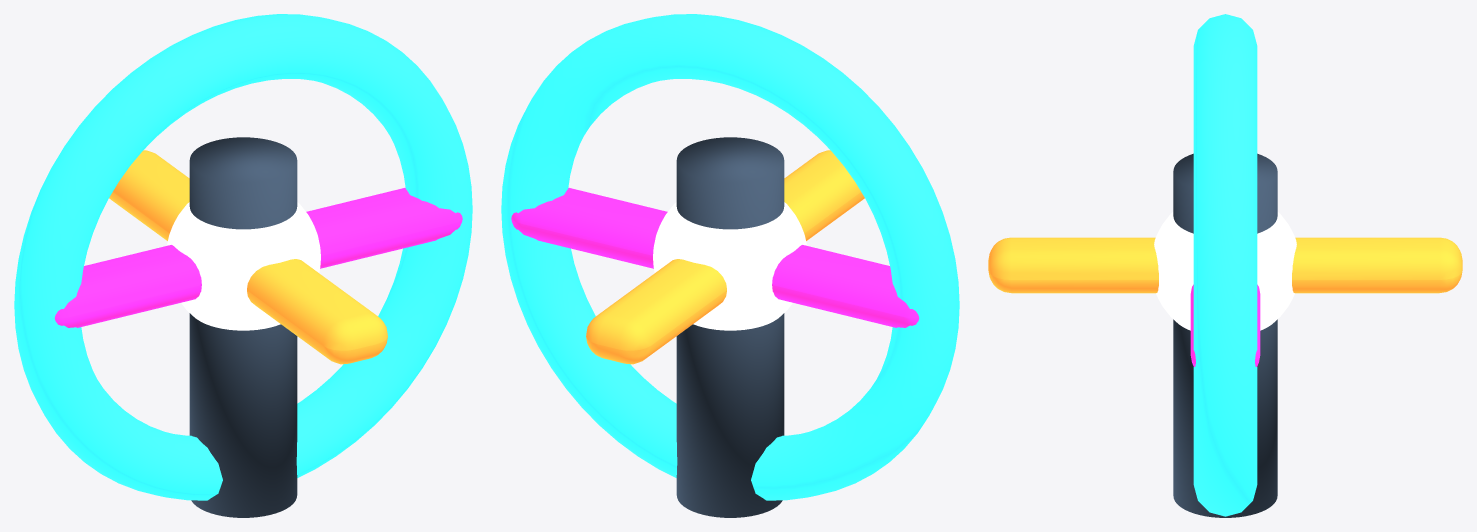
File: spinner.glb
3 views of the same model, side by side, from view 1: azimuth 30°, elevation 25°; view 2: azimuth 150°, elevation 25°; view 3: azimuth 270°, elevation 25° (orthographic). The views are drawn at different scales.
Visible parts, largest first — view 1: Spinner_Ring, Spinner, Spinner_Post, Spinner_Hub; view 2: Spinner_Ring, Spinner, Spinner_Post, Spinner_Hub; view 3: Spinner_Ring, Spinner, Spinner_Post, Spinner_Hub.
Boxes of the visible parts, x1,y1,x2,y2 form: Spinner_Ring: (14, 14, 472, 500); Spinner: (54, 150, 462, 364); Spinner_Post: (189, 137, 297, 517); Spinner_Hub: (167, 202, 320, 330); Spinner_Ring: (501, 14, 959, 500); Spinner: (511, 150, 919, 364); Spinner_Post: (676, 137, 784, 517); Spinner_Hub: (653, 202, 806, 330); Spinner_Ring: (1193, 14, 1257, 516); Spinner: (988, 237, 1462, 366); Spinner_Post: (1173, 153, 1277, 517); Spinner_Hub: (1154, 212, 1296, 330).
Bounding box in the file's own units: 0.87 × 0.875 × 0.82.
